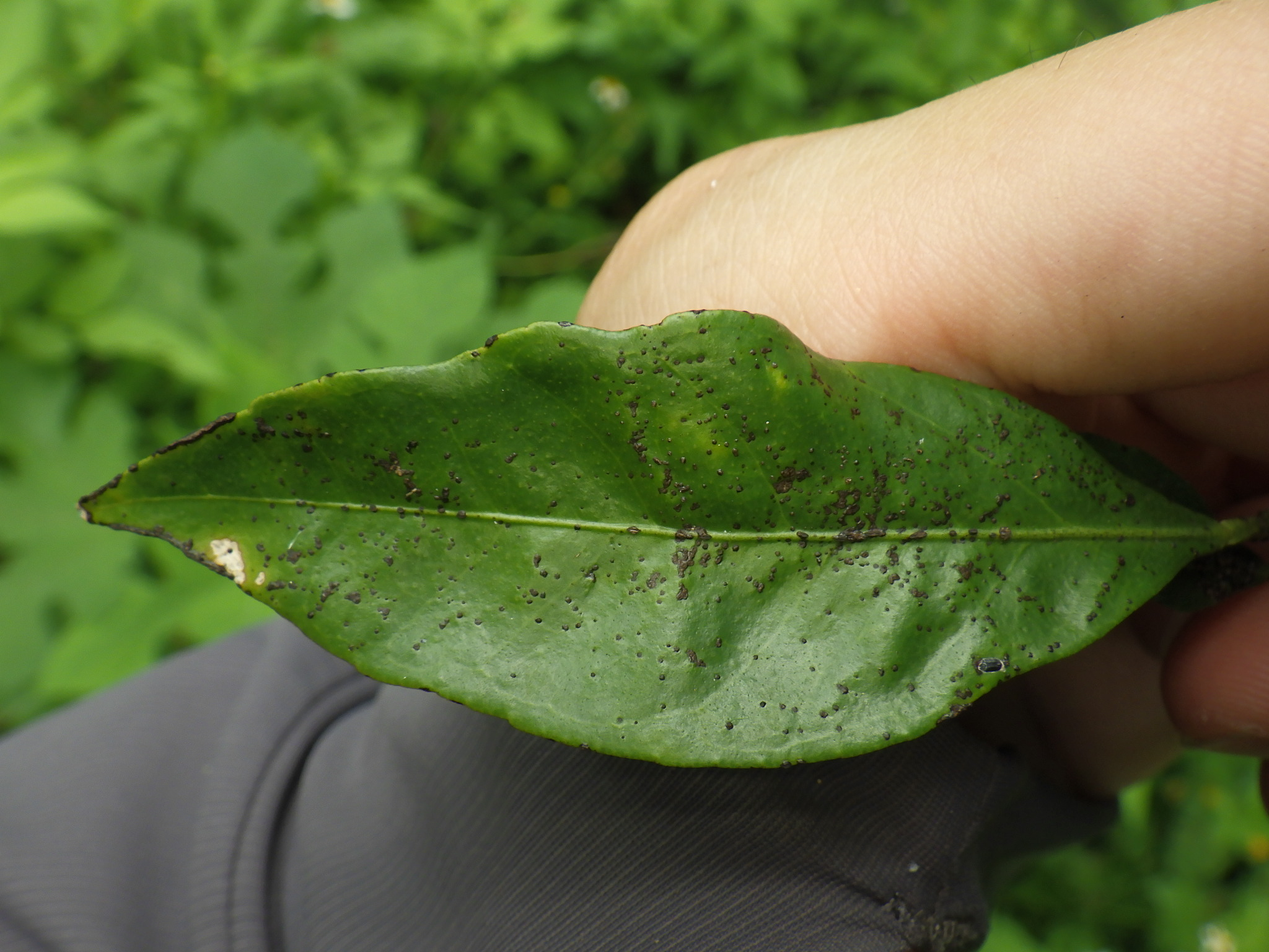Black_Spot: (81, 311, 1268, 766)
